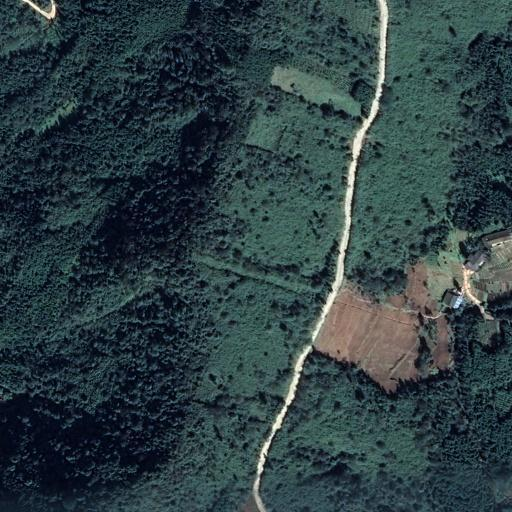landslide: (315, 258, 446, 395)
